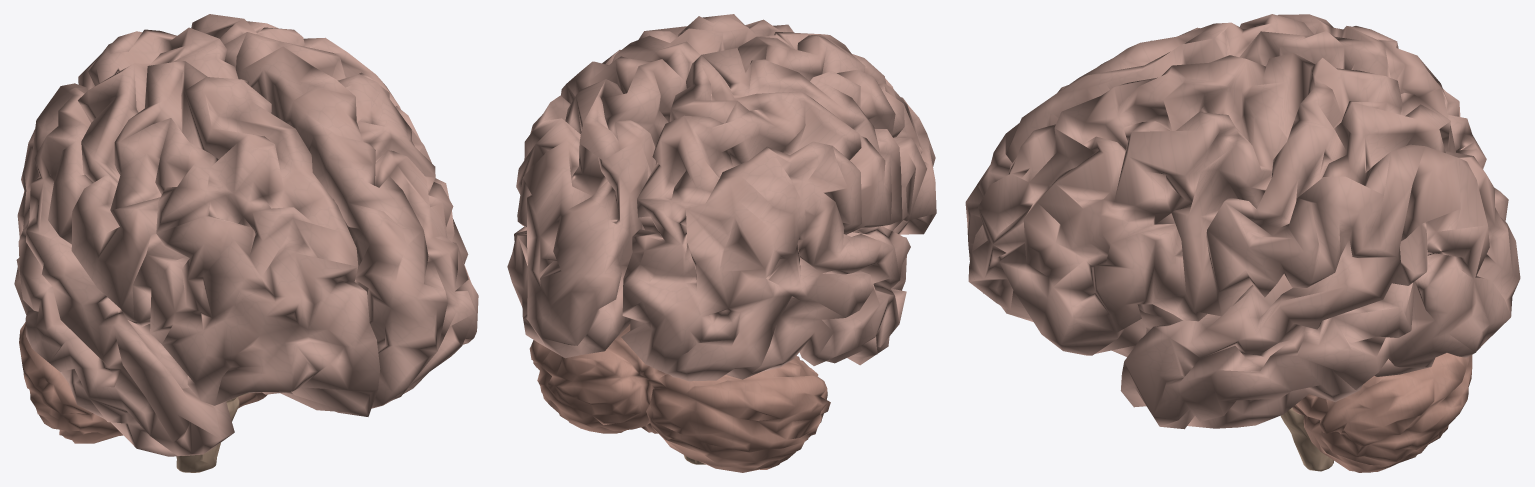
The model's file is overview.glb.
3 renders of one model, left to right at view 1: azimuth 30°, elevation 25°; view 2: azimuth 150°, elevation 25°; view 3: azimuth 270°, elevation 25°, orthographic. The views are drawn at different scales.
Visible parts, largest first — view 1: brain; view 2: brain; view 3: brain.
Part boxes in pixels (x1=…): brain: x1=14, y1=14, x2=478, y2=472; brain: x1=507, y1=14, x2=936, y2=472; brain: x1=965, y1=14, x2=1520, y2=472.
Bounding box in the file's own units: 0.1234 × 0.1416 × 0.165.
Materials: 3 (3 with a texture image).
